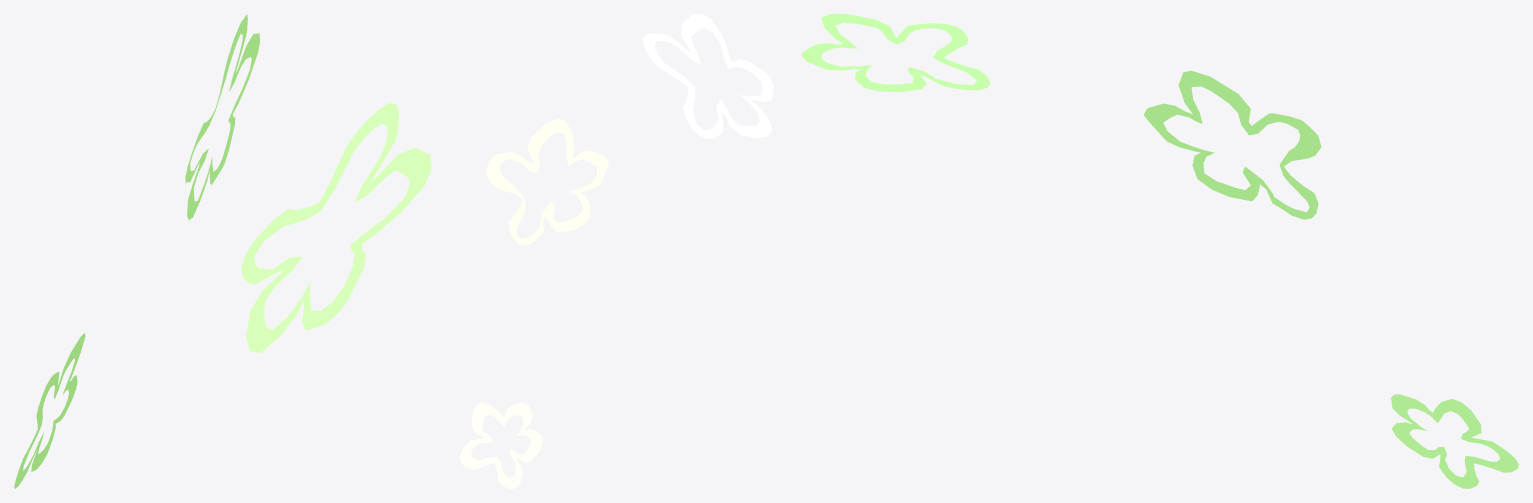
Rendered from object_27_lev3.glb.
3 renders of one model, left to right at view 1: azimuth 30°, elevation 25°; view 2: azimuth 150°, elevation 25°; view 3: azimuth 270°, elevation 25°, orthographic. The views are drawn at different scales.
Parts seen in each view (by area): view 1: object_27_lev3; view 2: object_27_lev3; view 3: object_27_lev3.
Part boxes in pixels (x1,y1,x2,y2): object_27_lev3: (14, 14, 431, 488); object_27_lev3: (460, 14, 773, 488); object_27_lev3: (802, 14, 1518, 488).
Size of the model in its own units: 0.4302 by 0.958 by 1.26.
